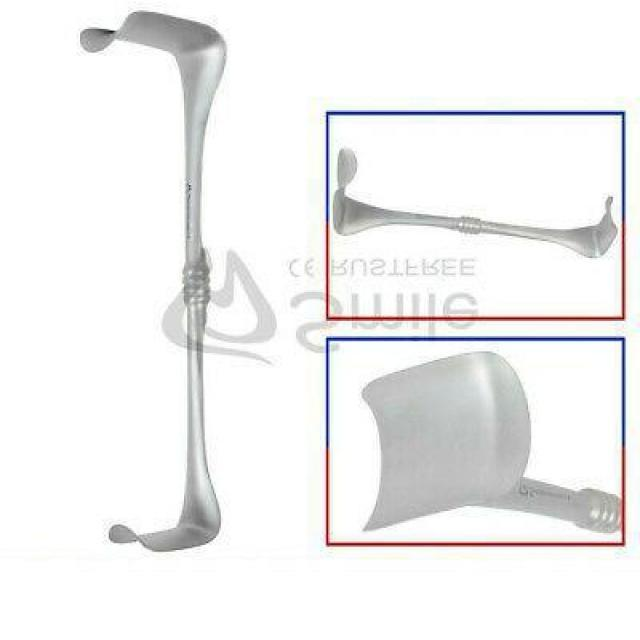Richardson: (74, 7, 232, 560), (352, 346, 619, 538), (330, 144, 620, 263)
